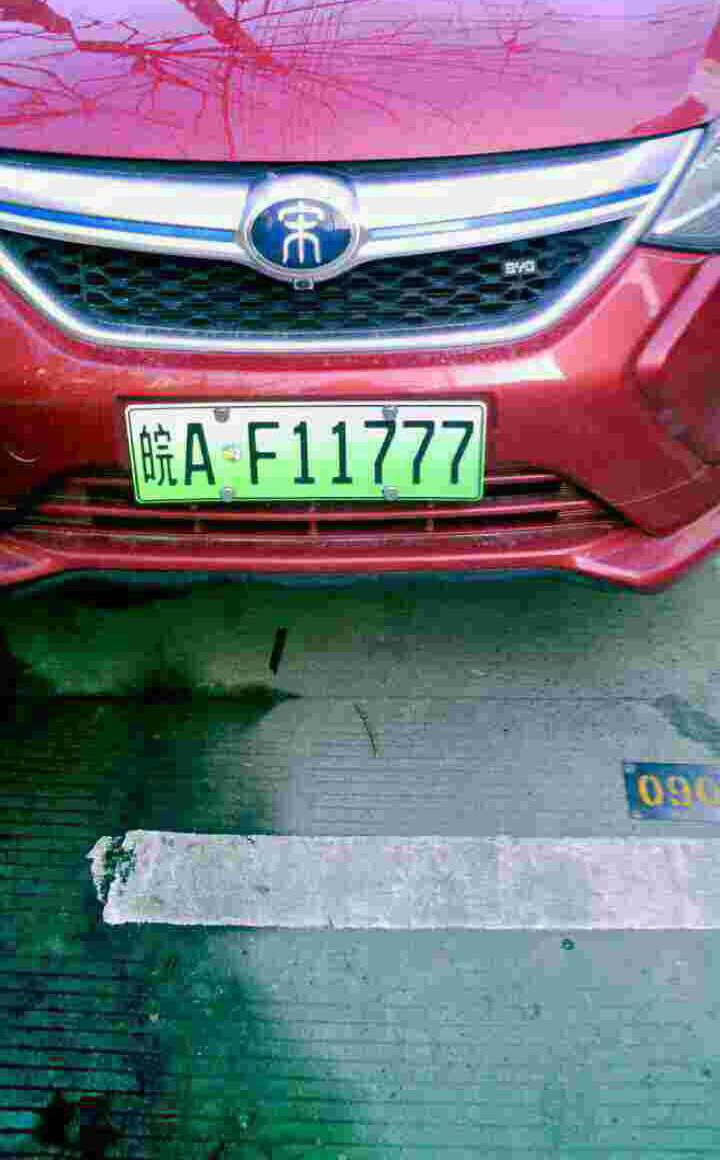car_id: (126, 401, 479, 500)
